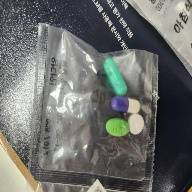러키펜정: (128, 114, 145, 135)
씨엠지세파클러캡슐: (112, 95, 140, 114)
에르도캡슐: (103, 58, 128, 97)
휴티렌정: (105, 118, 130, 138)
